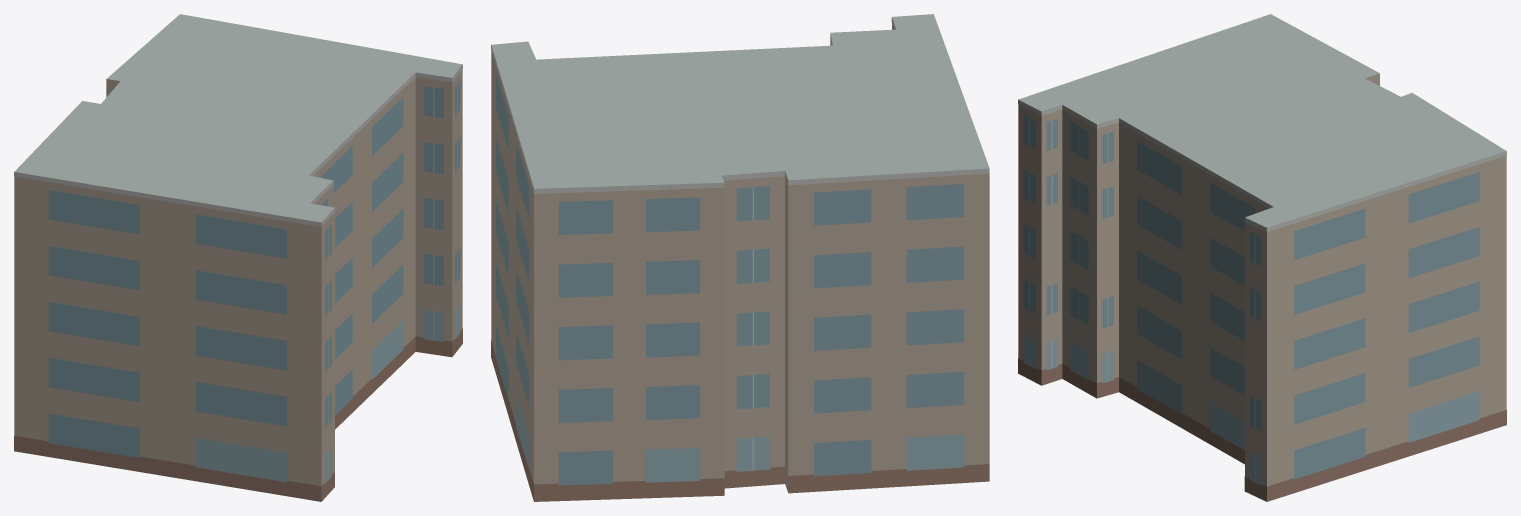
Rendered from survey-upis-32677262.glb.
3 renders of one model, left to right at view 1: azimuth 30°, elevation 25°; view 2: azimuth 150°, elevation 25°; view 3: azimuth 270°, elevation 25°, orthographic. The views are drawn at different scales.
Parts seen in each view (by area): view 1: survey-upis-32677262.tmp; view 2: survey-upis-32677262.tmp; view 3: survey-upis-32677262.tmp.
Boxes of the visible parts, bbox=[...] form: survey-upis-32677262.tmp: bbox=[14, 14, 462, 501]; survey-upis-32677262.tmp: bbox=[491, 14, 989, 501]; survey-upis-32677262.tmp: bbox=[1018, 14, 1506, 501].
Size of the model in its own units: 25.28 by 15.1 by 24.41.
